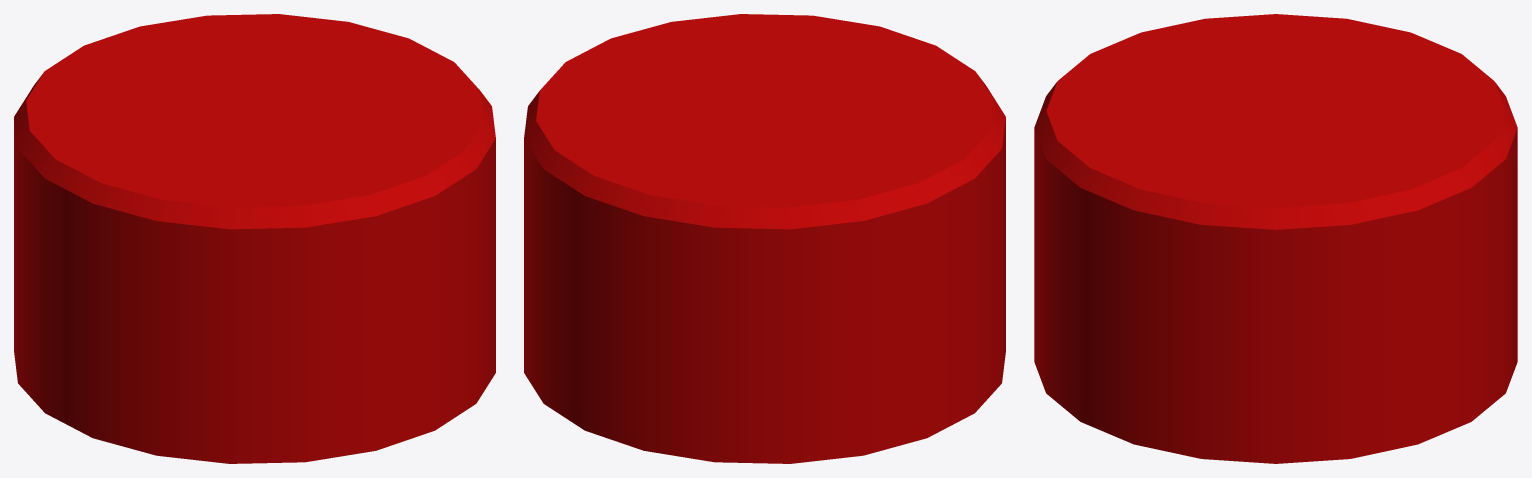
Rendered from button_cliff.fbx.
The picture shows the model from 3 angles, left to right: view 1: azimuth 30°, elevation 25°; view 2: azimuth 150°, elevation 25°; view 3: azimuth 270°, elevation 25°; orthographic projection.
Visible parts, largest first — view 1: pCylinder1; view 2: pCylinder1; view 3: pCylinder1.
Boxes of the visible parts, x1,y1,x2,y2 form: pCylinder1: (14,14,495,463); pCylinder1: (524,14,1005,463); pCylinder1: (1034,14,1517,463).
Size of the model in its own units: 95.47 by 54.64 by 95.47.
